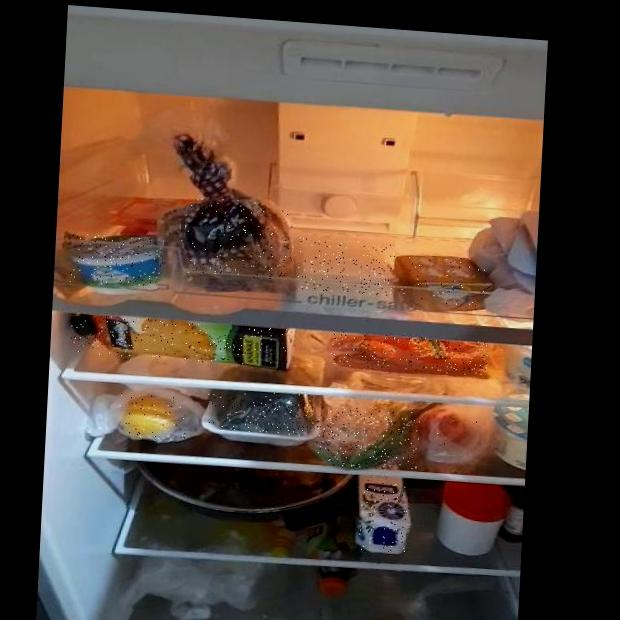bread: (179, 196, 296, 280)
broccoli: (207, 388, 317, 437)
butter: (397, 252, 490, 307)
carrot: (330, 331, 488, 376)
cheese: (297, 237, 397, 296)
green chilies: (316, 405, 421, 472)
juice: (70, 314, 291, 369)
lemon: (118, 394, 187, 442)
milk: (355, 477, 411, 553)
tomato: (436, 412, 486, 448)
yoghurt: (70, 232, 162, 289)
